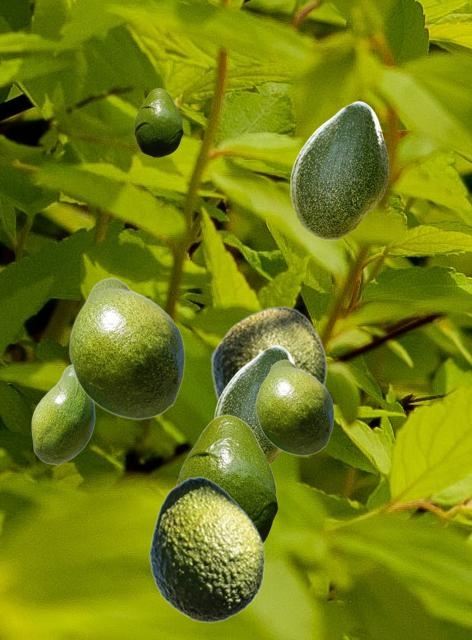avocado: (148, 476, 264, 622), (68, 277, 184, 419), (290, 101, 387, 239), (176, 414, 277, 542), (210, 306, 326, 402), (214, 345, 295, 464), (255, 359, 333, 455), (31, 364, 94, 464), (134, 88, 182, 156)
